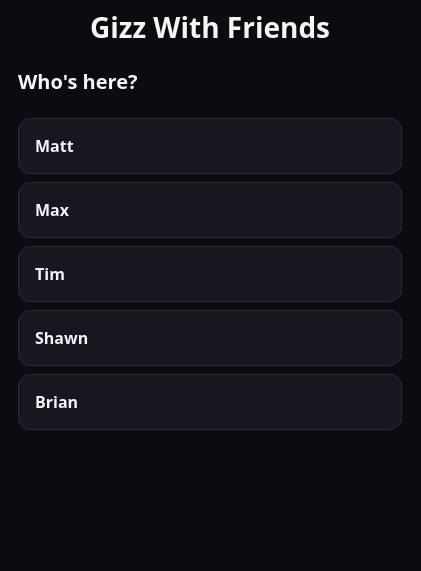
Scenario: SignInScreen — name-picker + password (AUTH-01 / D-01/D-03/D-18) › tapping a name marks it aria-pressed and reveals the password field
Click the button "Matt" at (54, 146), box [18,118,402,174]
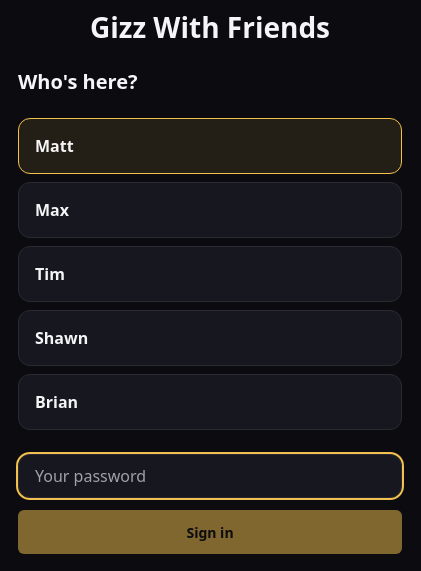
Result: the password field with placeholder "Your password" is shown at [18,454,402,498]
